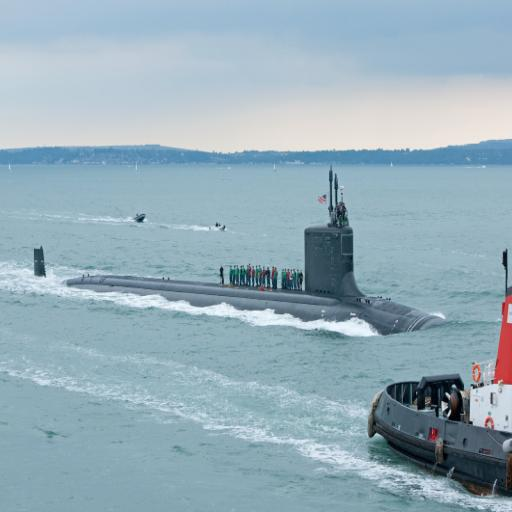submarine: (33, 160, 445, 337)
